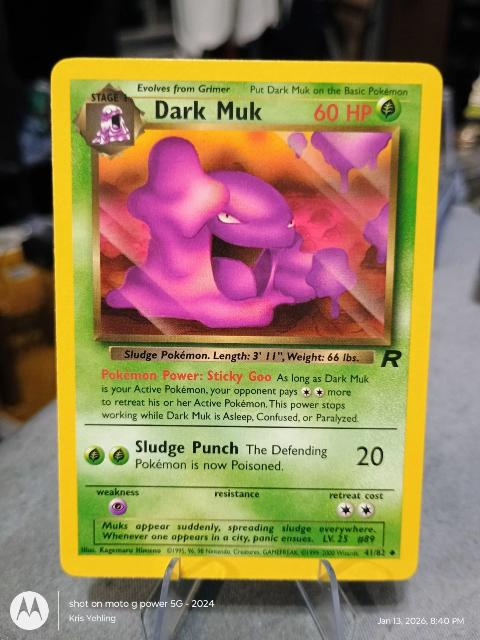Card: (46, 54, 446, 585)
Name: (151, 98, 266, 124)
